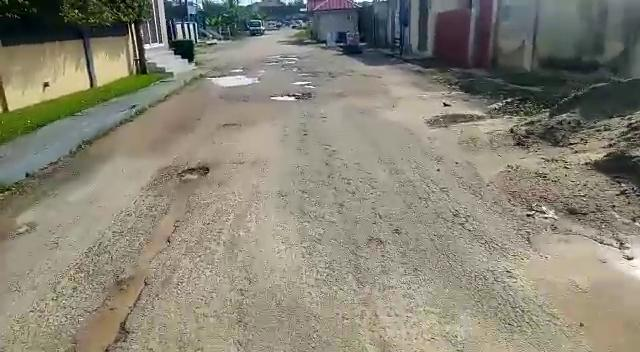pothole: (208, 70, 258, 86), (173, 162, 212, 180), (269, 93, 305, 103), (293, 80, 317, 86)
